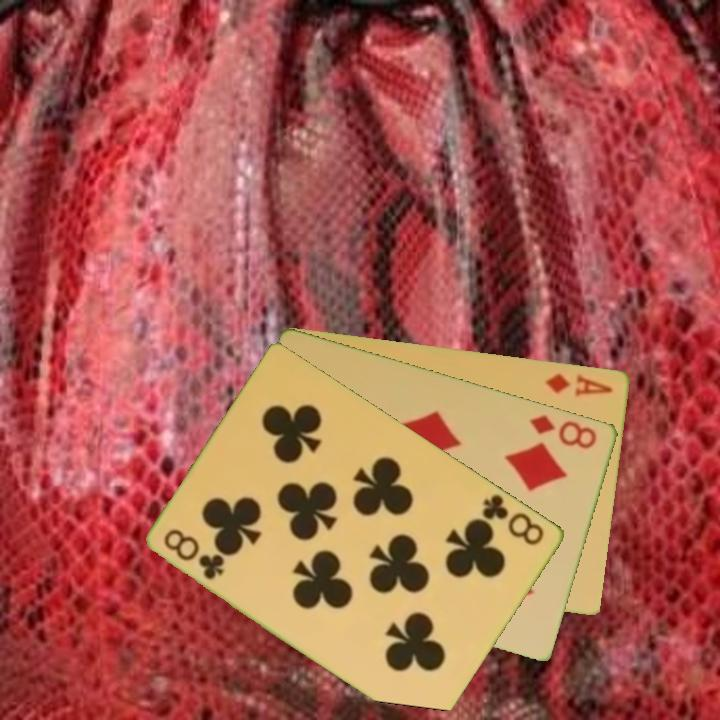8c: (479, 490, 548, 549), (160, 524, 228, 583)
8d: (526, 411, 601, 452)
Ad: (542, 369, 616, 399)
